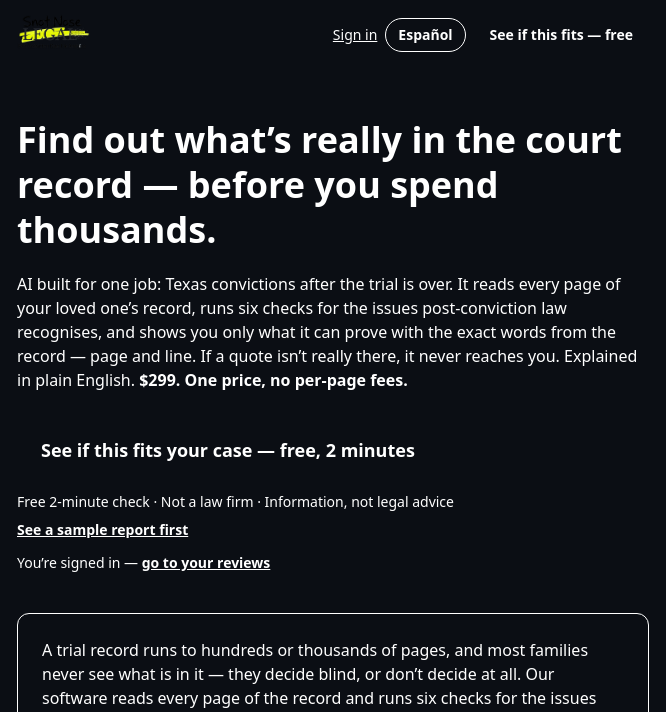
Test: i18n (i18n_localization.md) › the switcher flips the landing to Spanish and persists
Expected: the heading "Find out what’s really in the court record" is shown, x1=17 y1=115 x2=622 y2=254
Click the button with test id "lang-switch" at (425, 35), box x1=385 y1=18 x2=466 y2=52
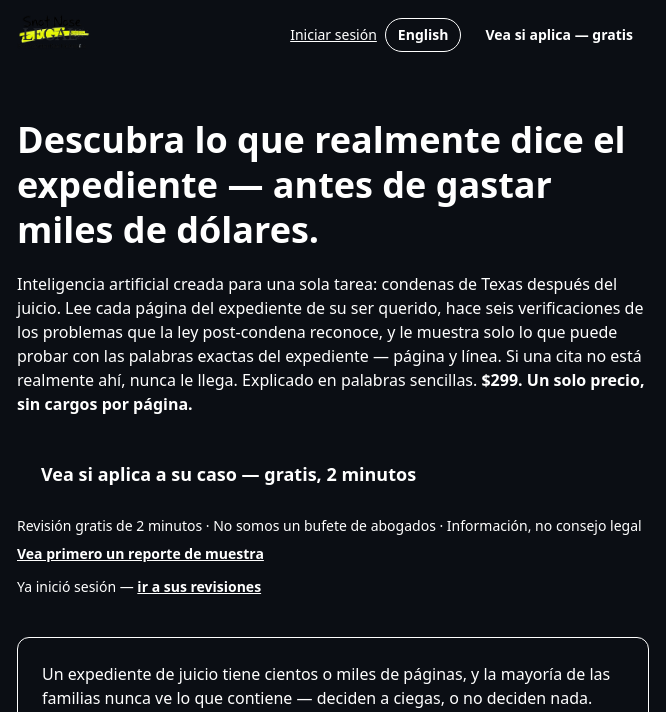
Now the heading "Descubra lo que realmente dice el expediente" is shown, box x1=17 y1=115 x2=626 y2=254
